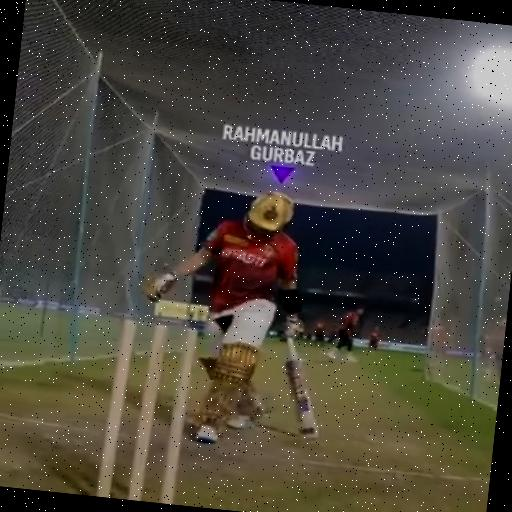Cricket bat: (285, 337, 318, 439)
